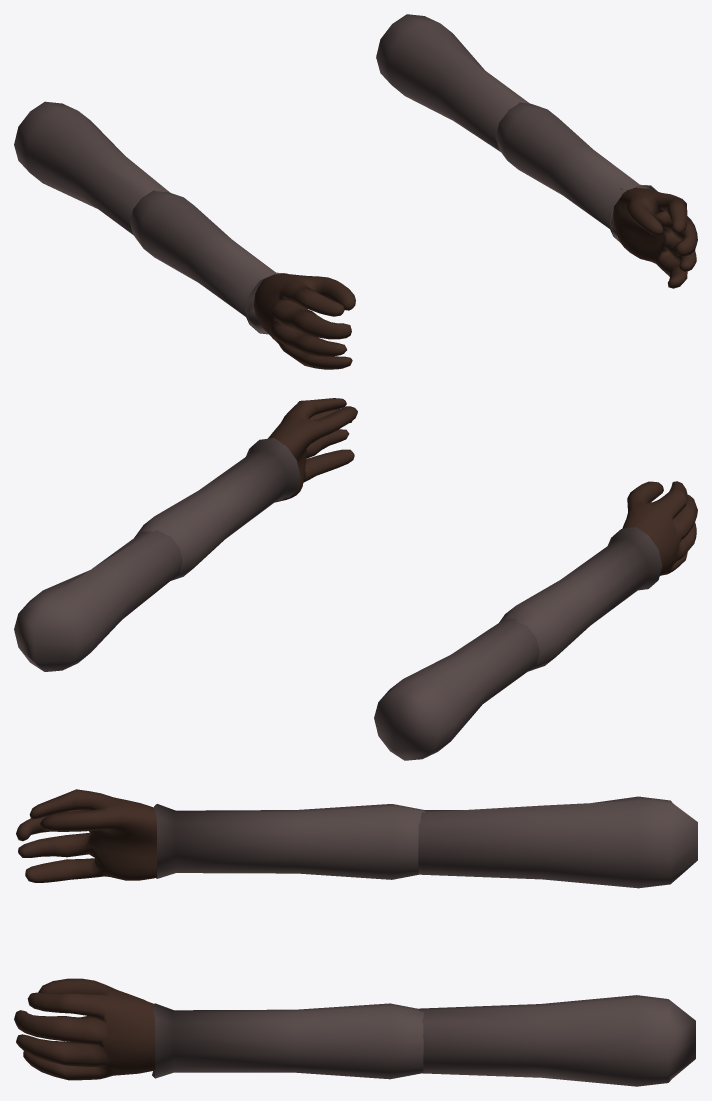
Rendered from Arms.glb.
3 views of the same model, one above another, from view 1: azimuth 30°, elevation 25°; view 2: azimuth 150°, elevation 25°; view 3: azimuth 270°, elevation 25° (orthographic). The views are drawn at different scales.
Parts seen in each view (by area): view 1: UpperArmLeft, UpperArmRight, LowerArmRight, LowerArmLeft, HandRight, HandLeft; view 2: UpperArmLeft, UpperArmRight, LowerArmRight, LowerArmLeft, HandLeft, HandRight; view 3: UpperArmRight, UpperArmLeft, LowerArmLeft, LowerArmRight, HandLeft, HandRight.
Boxes of the visible parts, <box> form: UpperArmLeft: <box>376,14,529,151</box>; UpperArmRight: <box>14,101,169,234</box>; LowerArmRight: <box>130,190,287,334</box>; LowerArmLeft: <box>496,102,657,242</box>; HandRight: <box>254,274,355,369</box>; HandLeft: <box>613,188,697,288</box>; UpperArmLeft: <box>14,530,182,671</box>; UpperArmRight: <box>374,618,539,760</box>; LowerArmRight: <box>499,527,662,671</box>; LowerArmLeft: <box>134,438,300,580</box>; HandLeft: <box>268,398,357,502</box>; HandRight: <box>622,481,697,575</box>; UpperArmRight: <box>418,796,697,888</box>; UpperArmLeft: <box>418,995,695,1086</box>; LowerArmLeft: <box>152,1003,424,1079</box>; LowerArmRight: <box>154,804,425,879</box>; HandLeft: <box>14,978,173,1080</box>; HandRight: <box>16,789,156,882</box>.
Bounding box in the file's own units: 1.08 × 0.192 × 1.32.
